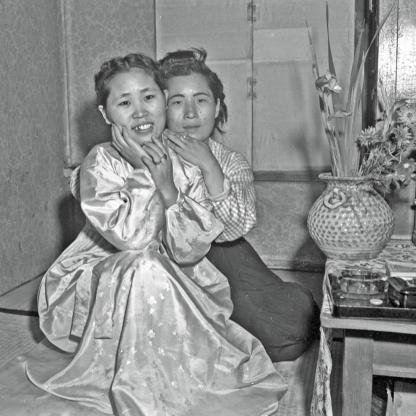vase: (305, 171, 395, 259)
